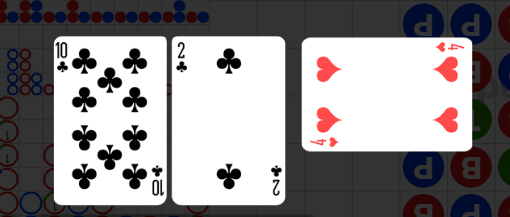10C: (150, 164, 165, 199)
4H: (435, 42, 466, 55), (310, 136, 341, 149)
